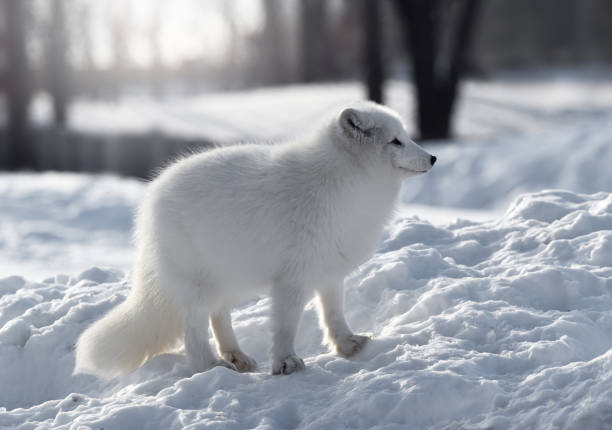arcticfox: (357, 111, 445, 190)
